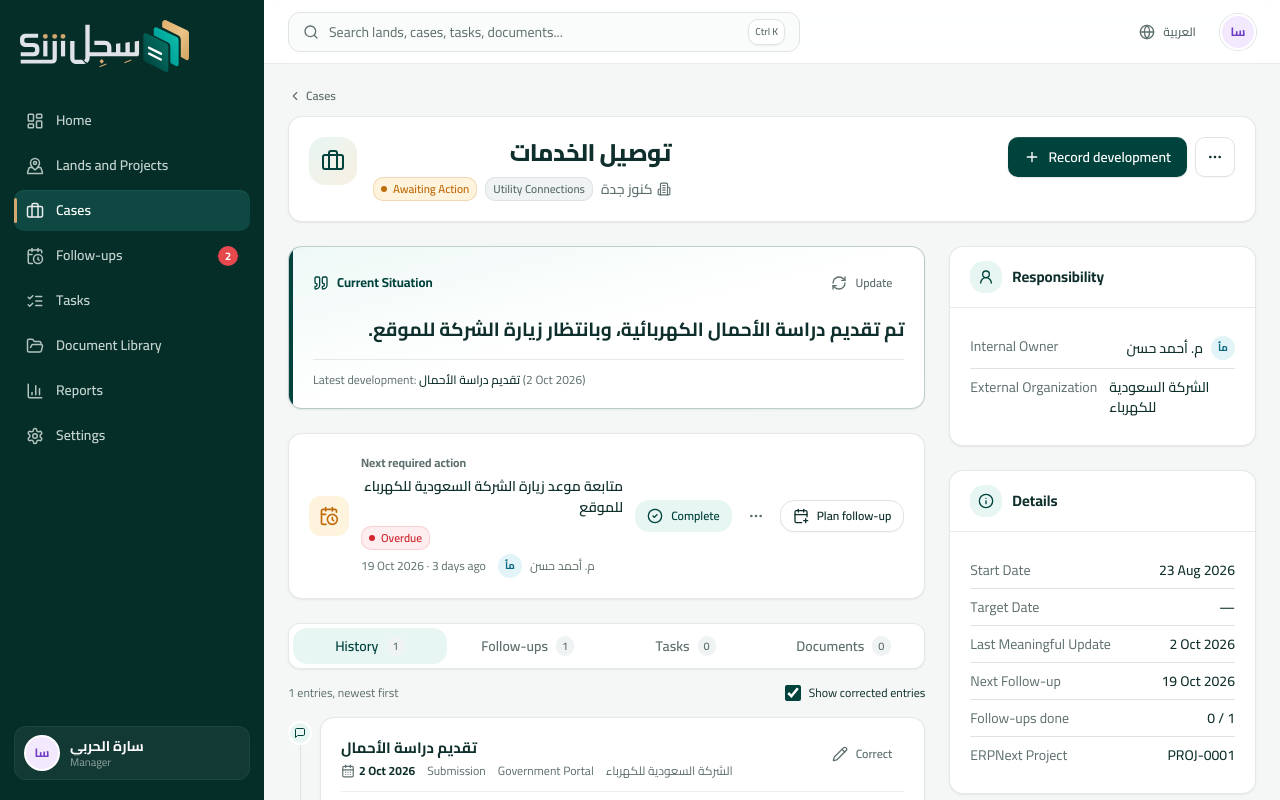
it: follow-ups › plans a follow-up from the case page
Click the button "Plan follow-up" at (842, 516), box [780, 500, 904, 532]
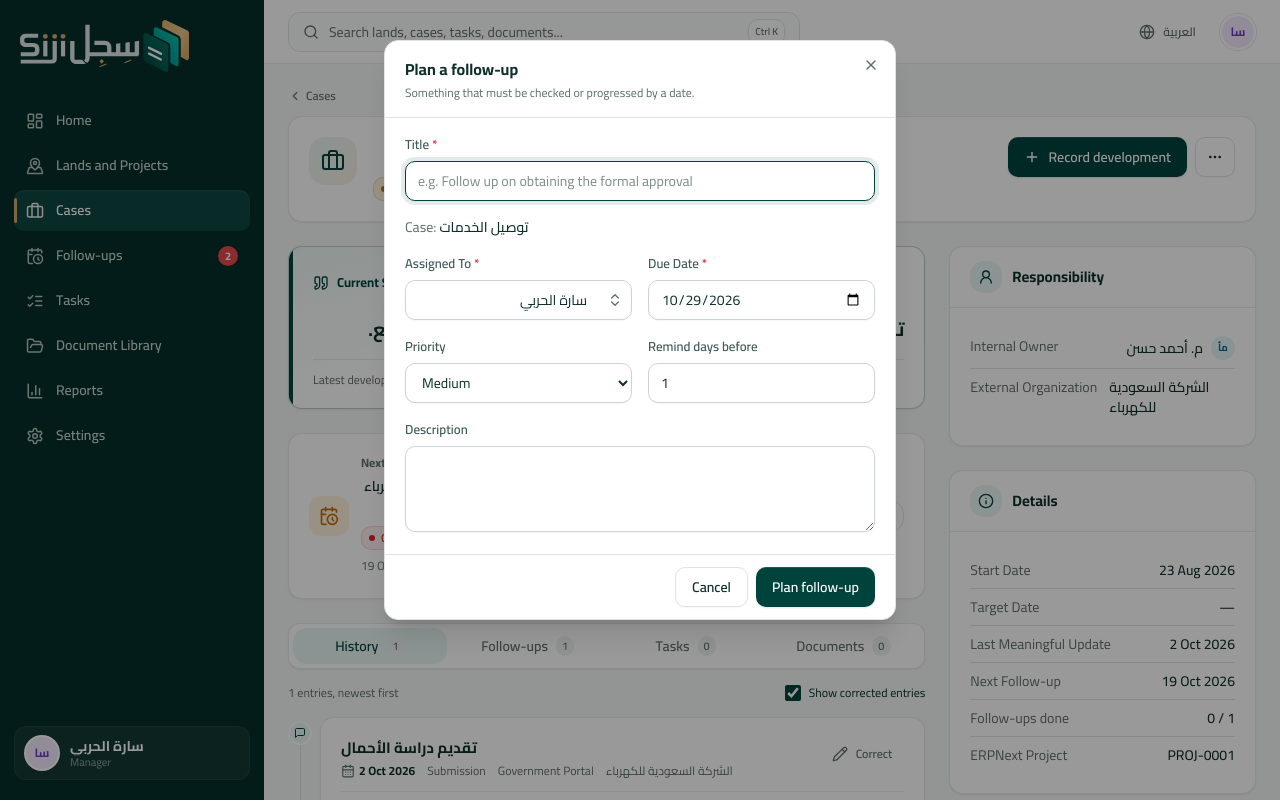
Type "Call the provider again" into the field labelled "Title *" at (640, 181), box [405, 161, 875, 201]
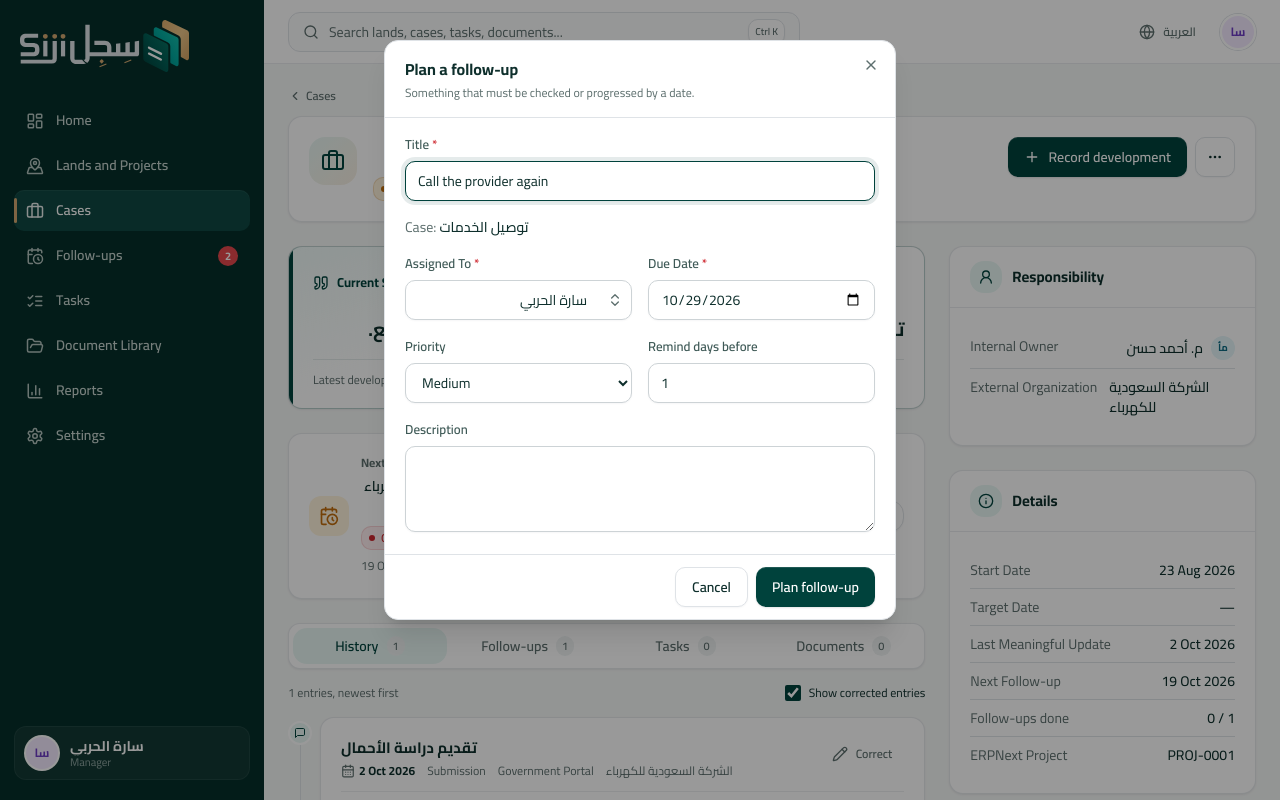
Click the button "Plan follow-up" at (815, 587), box [756, 567, 875, 607]
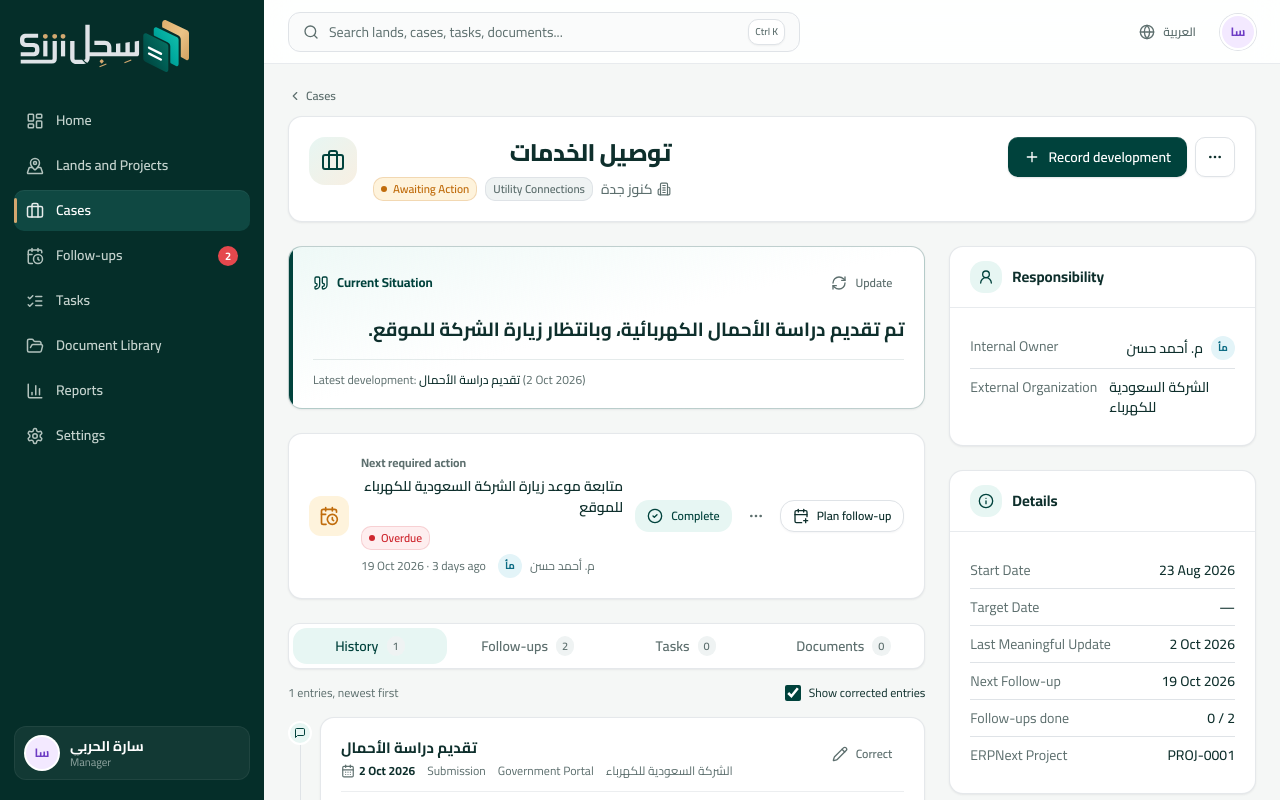
Expected: the dialog is gone
